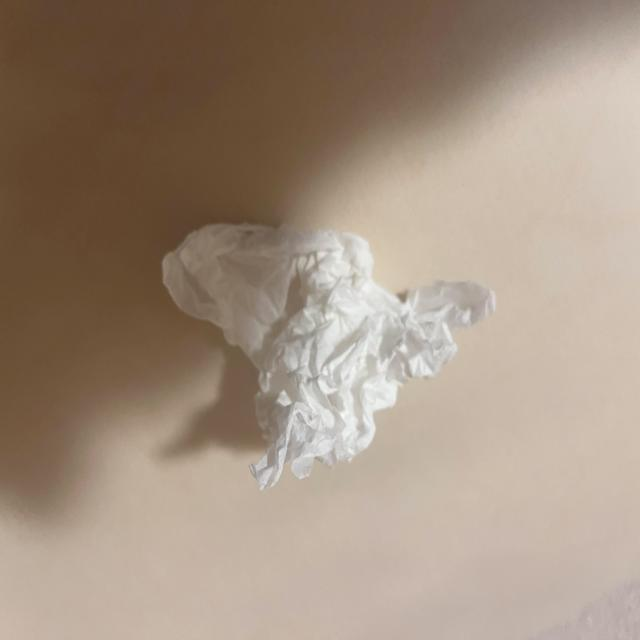Paper: (148, 190, 504, 490)
